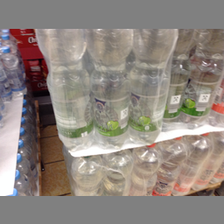water: (35, 29, 94, 150), (84, 29, 135, 150), (131, 29, 179, 142), (178, 29, 224, 130)
